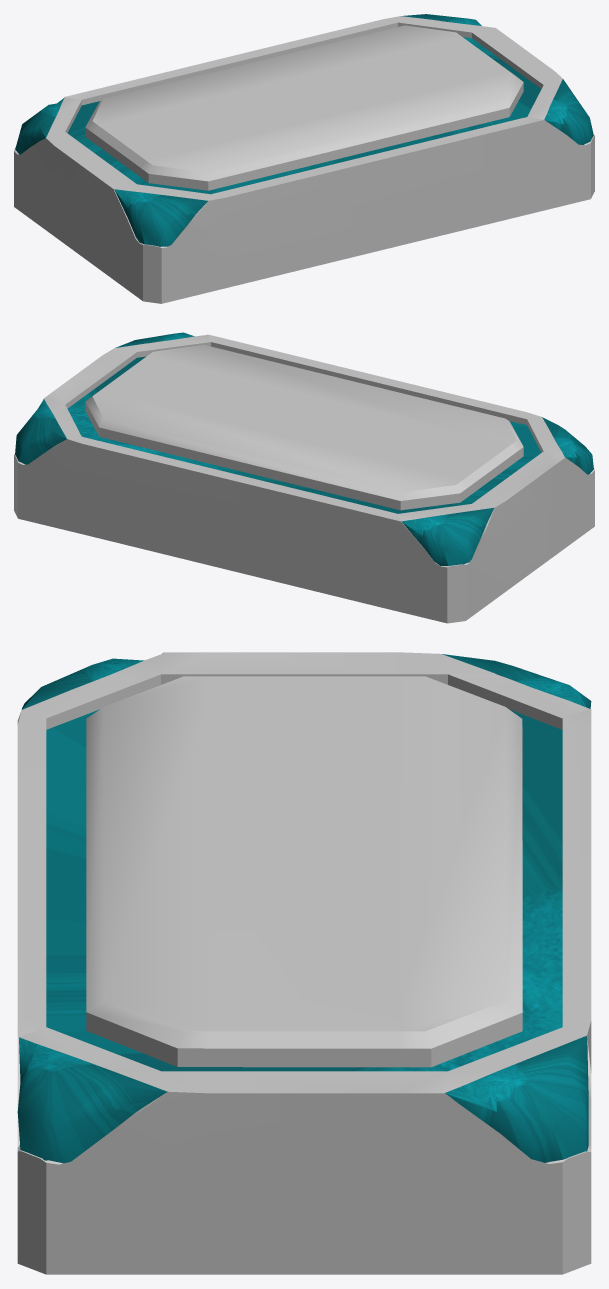
The model's file is Floor Button.fbx.
The picture shows the model from 3 angles, top to bottom: view 1: azimuth 30°, elevation 25°; view 2: azimuth 150°, elevation 25°; view 3: azimuth 270°, elevation 25°; orthographic projection. The views are drawn at different scales.
Parts seen in each view (by area): view 1: Floor_Button; view 2: Floor_Button; view 3: Floor_Button.
Boxes of the visible parts, x1,y1,x2,y2 form: Floor_Button: (14, 14, 594, 303); Floor_Button: (14, 332, 594, 623); Floor_Button: (17, 652, 591, 1274).
Size of the model in its own units: 200 by 42.52 by 110.
